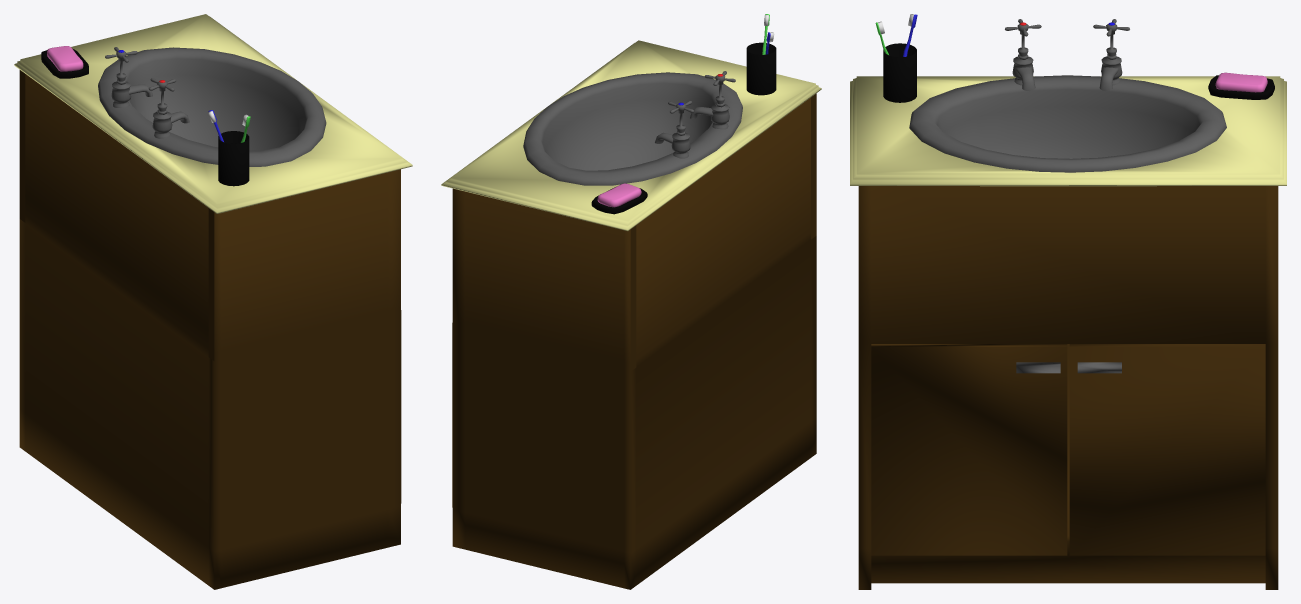
Rendered from lavabo.FBX.
3 renders of one model, left to right at view 1: azimuth 30°, elevation 25°; view 2: azimuth 150°, elevation 25°; view 3: azimuth 270°, elevation 25°, orthographic. The views are drawn at different scales.
Visible parts, largest first — view 1: base, base.001, Pila, faucets, Vaso, Jabon, dish; view 2: base, Pila, base.001, faucets, Vaso, Jabon, dish; view 3: base, puertaA, puertaB, Pila, base.001, Vaso, faucets, Jabon, dish.
Boxes of the visible parts, x1,y1,x2,y2 form: base: [19, 70, 400, 589]; base.001: [14, 14, 412, 213]; Pila: [98, 47, 326, 166]; faucets: [111, 51, 189, 138]; Vaso: [218, 131, 249, 186]; Jabon: [47, 46, 83, 71]; dish: [41, 48, 88, 78]; base: [452, 93, 816, 589]; Pila: [523, 72, 742, 185]; base.001: [441, 40, 821, 231]; faucets: [655, 75, 729, 158]; Vaso: [746, 42, 776, 95]; Jabon: [597, 183, 641, 207]; dish: [591, 187, 647, 214]; base: [858, 186, 1278, 589]; puertaA: [871, 344, 1067, 555]; puertaB: [1069, 344, 1265, 555]; Pila: [909, 75, 1226, 172]; base.001: [850, 76, 1286, 186]; Vaso: [883, 43, 916, 102]; faucets: [1012, 24, 1122, 91]; Jabon: [1215, 72, 1267, 92]; dish: [1208, 75, 1274, 99].
Bounding box in the file's own units: 58.85 × 128 × 103.
